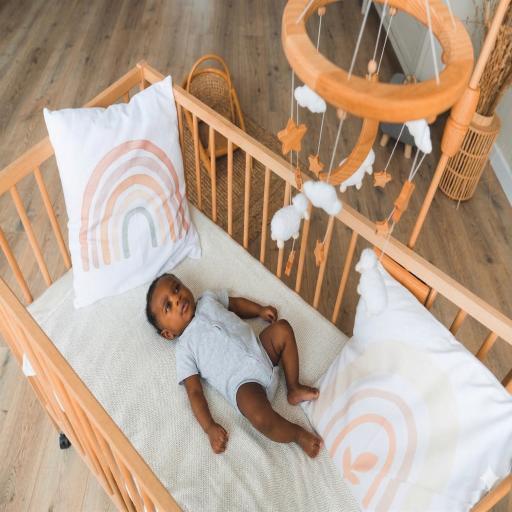baby: (147, 274, 322, 457)
crib: (173, 84, 297, 262)
